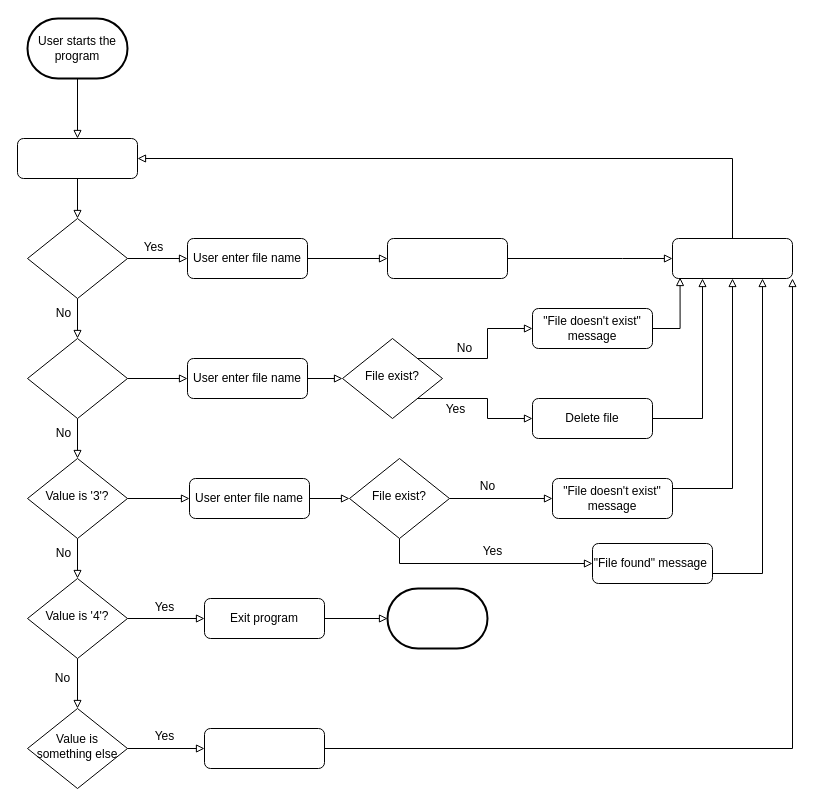
Some shapes in this 818 by 806 pixel diagram are drawn without their labels. The shapes that lost their labels are listed below. From the top down, each one's centre as x and y in pixels, then its label:
the point at 77,158: User enter value
the point at 77,258: Value is '1'?
the point at 447,258: File Created
the point at 732,258: Return to first page
the point at 77,378: Value is '2'?
the point at 437,618: End
the point at 264,748: "Invalid input" message
